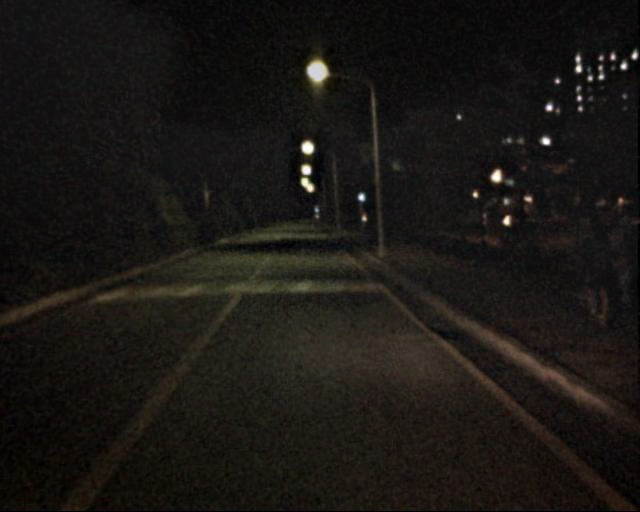person: (566, 211, 616, 330), (603, 208, 640, 320)
